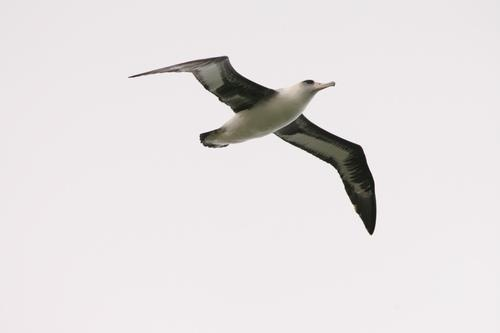bird: (125, 54, 376, 237)
